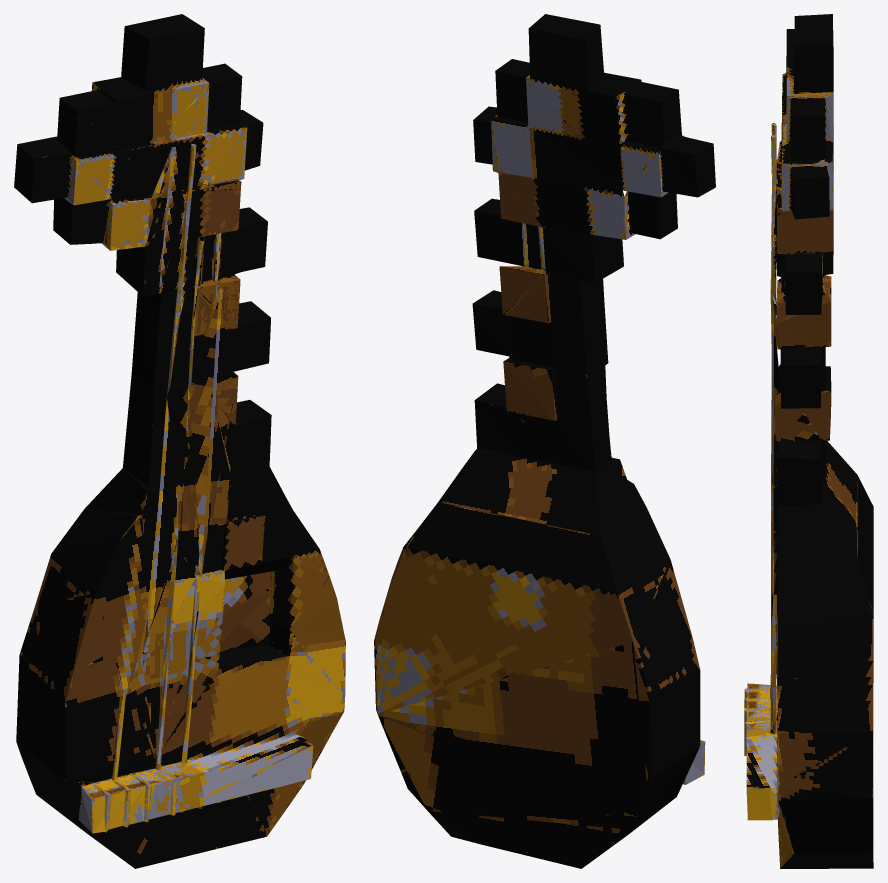
The picture shows the model from 3 angles, left to right: view 1: azimuth 30°, elevation 25°; view 2: azimuth 150°, elevation 25°; view 3: azimuth 270°, elevation 25°; orthographic projection. The views are drawn at different scales.
Parts seen in each view (by area): view 1: OBJ123; view 2: OBJ123; view 3: OBJ123.
Part boxes in pixels (<box>): OBJ123: <box>14,14,345,868</box>; OBJ123: <box>374,14,715,868</box>; OBJ123: <box>744,14,873,868</box>.
Bounding box in the file's own units: 0.1751 × 0.4478 × 0.0656.
1 material, 1 textured.
